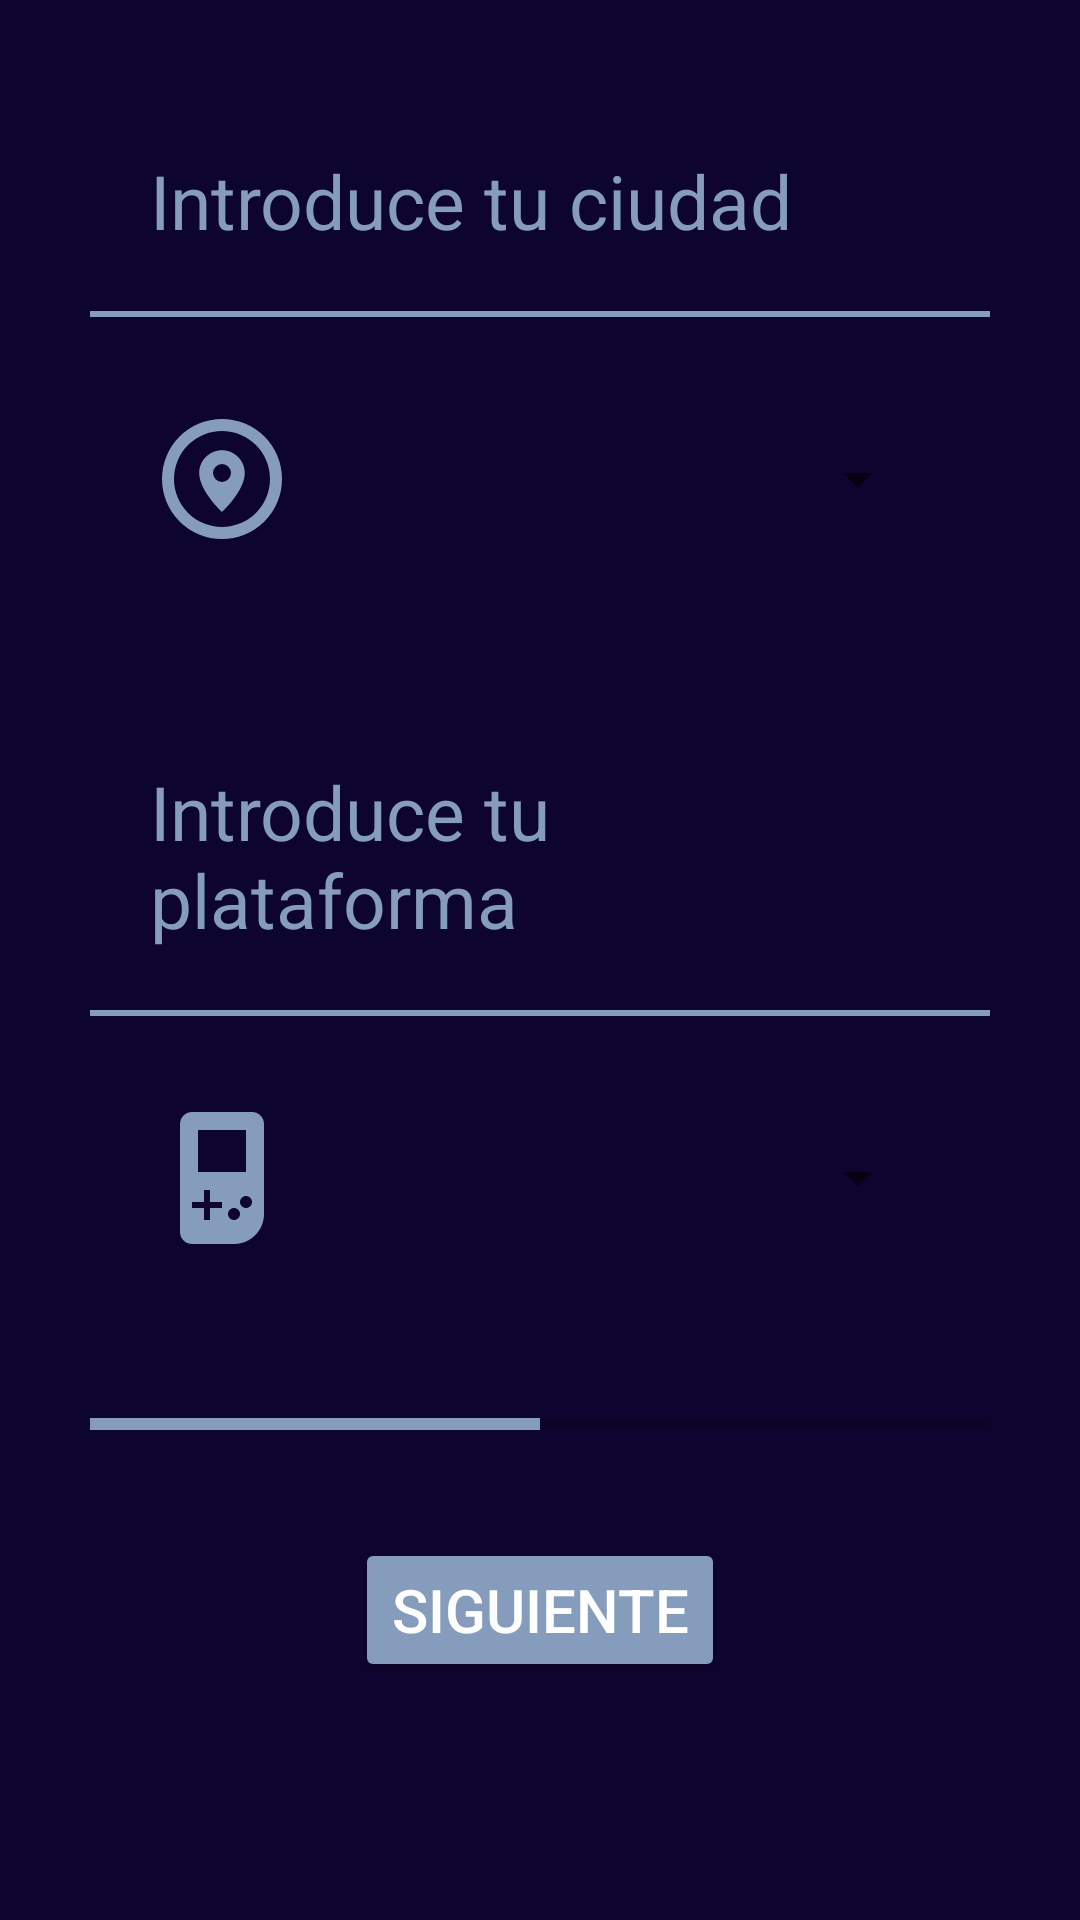

Point at icon controls on the screen. Image size 1080px×1920px, points as (x,y).
vectorciudad: (222,479)
vectorconsola: (222,1178)
